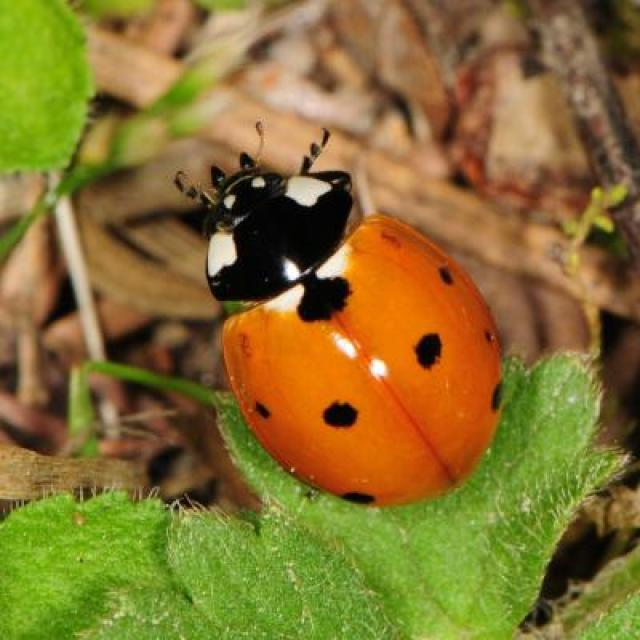antennae: (172, 108, 278, 205)
body: (209, 166, 502, 508)
insect: (166, 113, 503, 506)
legs: (287, 113, 357, 174)
mouthpart: (198, 136, 280, 227)
wings: (213, 217, 502, 506)
